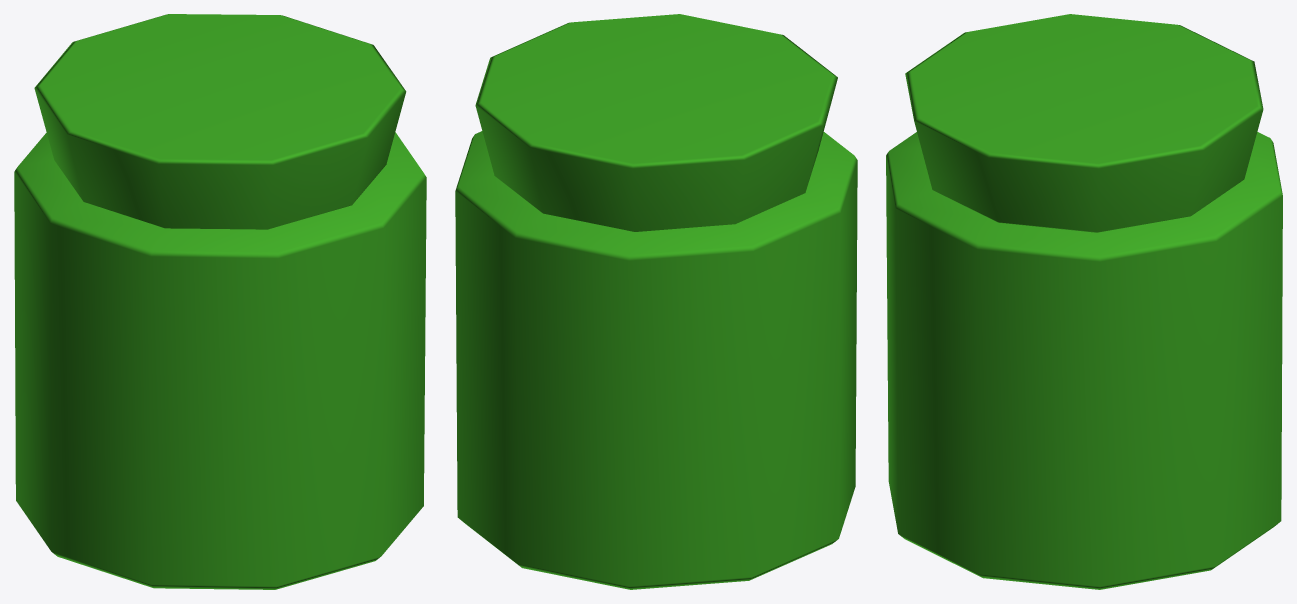
The model's file is Env_SmallJar_01.fbx.
3 views of the same model, side by side, from view 1: azimuth 30°, elevation 25°; view 2: azimuth 150°, elevation 25°; view 3: azimuth 270°, elevation 25° (orthographic).
Parts seen in each view (by area): view 1: Env_SmallJar_01; view 2: Env_SmallJar_01; view 3: Env_SmallJar_01.
Boxes of the visible parts, bbox=[...] form: Env_SmallJar_01: bbox=[14, 14, 426, 589]; Env_SmallJar_01: bbox=[455, 14, 857, 589]; Env_SmallJar_01: bbox=[886, 14, 1282, 589].
Bounding box in the file's own units: 11.97 × 13.68 × 11.67.
